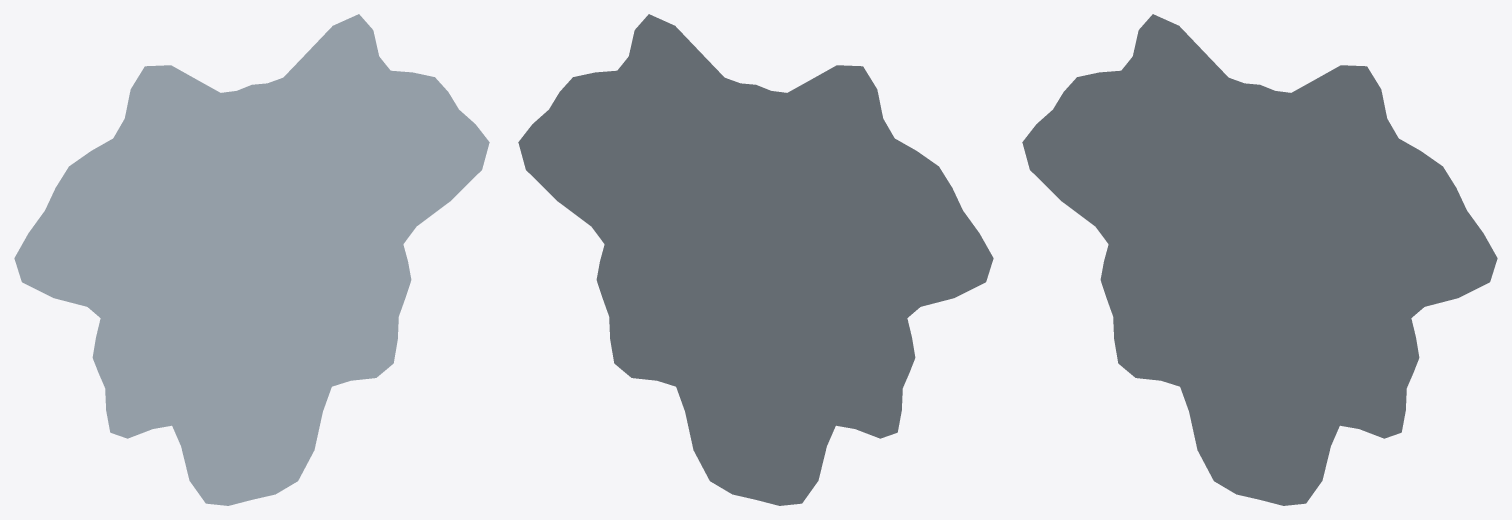
File: 2046_DustSplash_MudBlotch0.fbx
3 renders of one model, left to right at view 1: azimuth 30°, elevation 25°; view 2: azimuth 150°, elevation 25°; view 3: azimuth 330°, elevation 25°, orthographic.
Visible parts, largest first — view 1: PART_IrregularMudBlotch0; view 2: PART_IrregularMudBlotch0; view 3: PART_IrregularMudBlotch0.
Boxes of the visible parts, x1,y1,x2,y2 form: PART_IrregularMudBlotch0: (14,14,489,505); PART_IrregularMudBlotch0: (518,14,993,505); PART_IrregularMudBlotch0: (1022,14,1497,505).
Bounding box in the file's own units: 240 × 222 × 3.61e-05.
